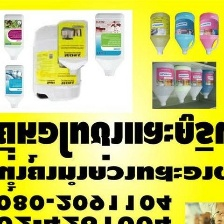cleaning_solution: (28, 22, 82, 105), (92, 12, 126, 78), (55, 17, 89, 76), (0, 13, 25, 61), (147, 9, 172, 56), (197, 10, 221, 57), (150, 61, 175, 106), (2, 60, 24, 111), (173, 9, 196, 56), (170, 63, 193, 104), (184, 65, 203, 101), (198, 66, 214, 99)
